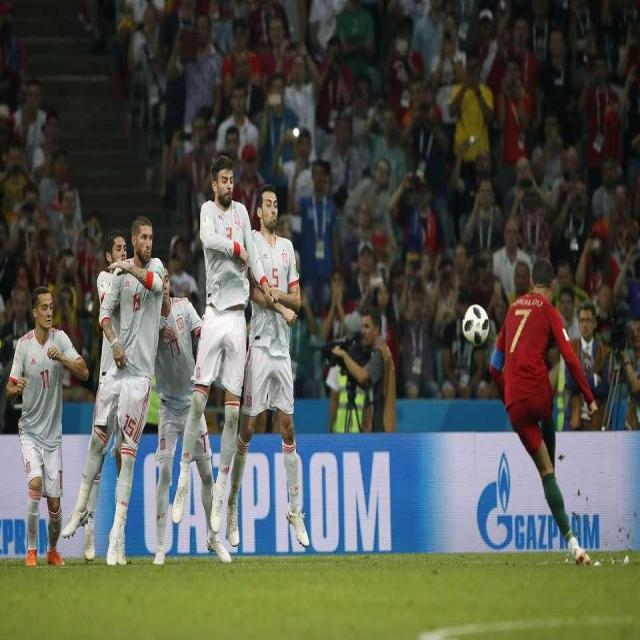ball: (460, 302, 490, 348)
player: (489, 260, 603, 568), (231, 187, 314, 550), (5, 284, 89, 566), (194, 158, 253, 529), (105, 220, 163, 570), (162, 255, 212, 559), (96, 229, 126, 439)
